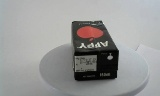appy: (65, 20, 111, 81)
